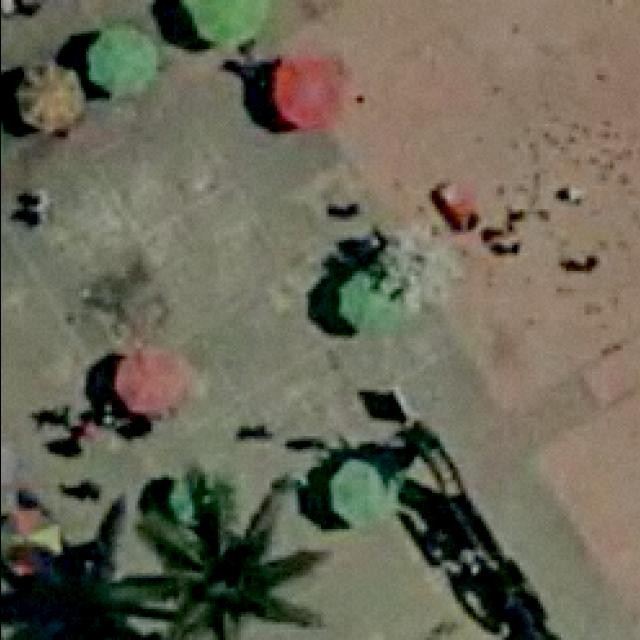vendedor_ambulante: (330, 259, 408, 345), (106, 342, 195, 417), (268, 52, 348, 132), (9, 56, 90, 135), (84, 18, 160, 102), (319, 452, 397, 533), (168, 0, 274, 49), (0, 503, 64, 576), (165, 480, 220, 532)
